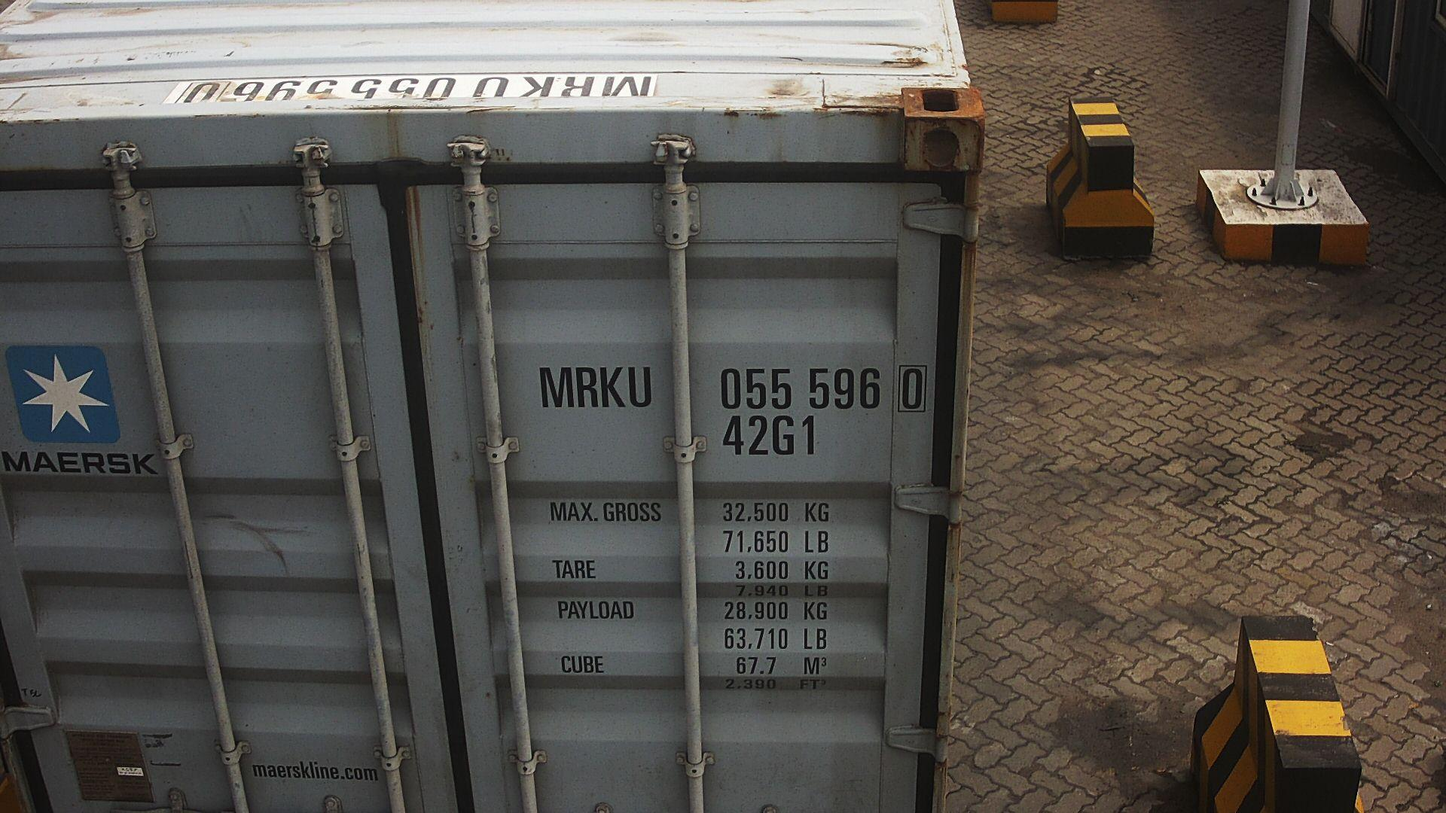container-numbers: (532, 361, 935, 416), (165, 73, 656, 104), (720, 413, 821, 460)
